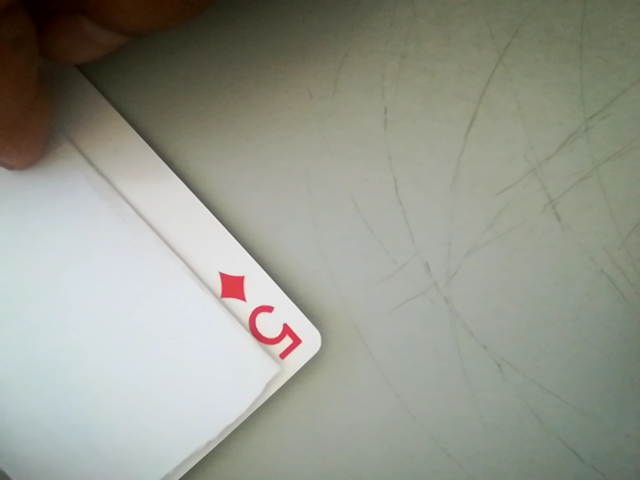fk 5: (206, 261, 319, 369)
